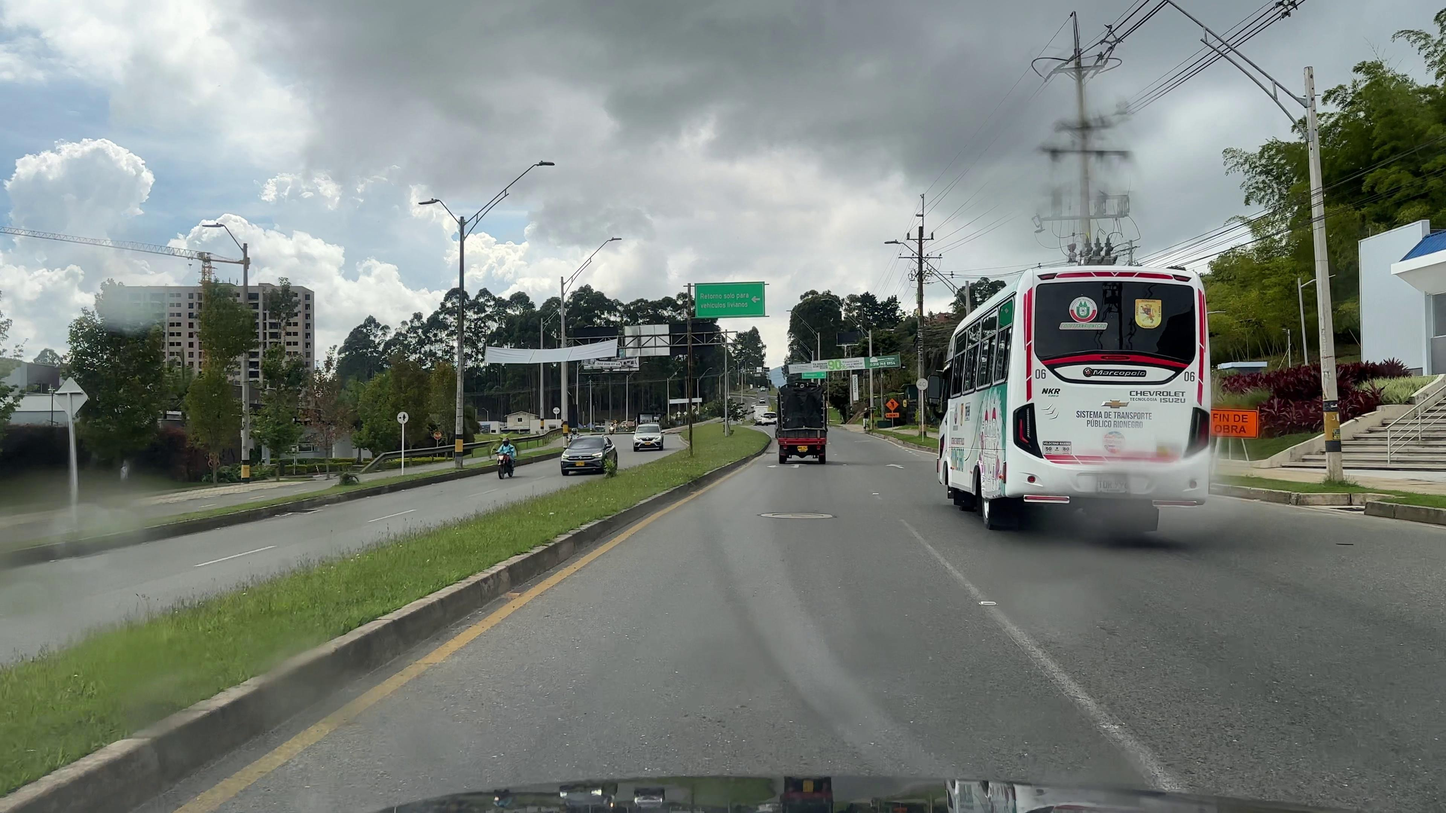registro: (772, 513, 824, 517)
rejilla: (1327, 507, 1365, 511)
